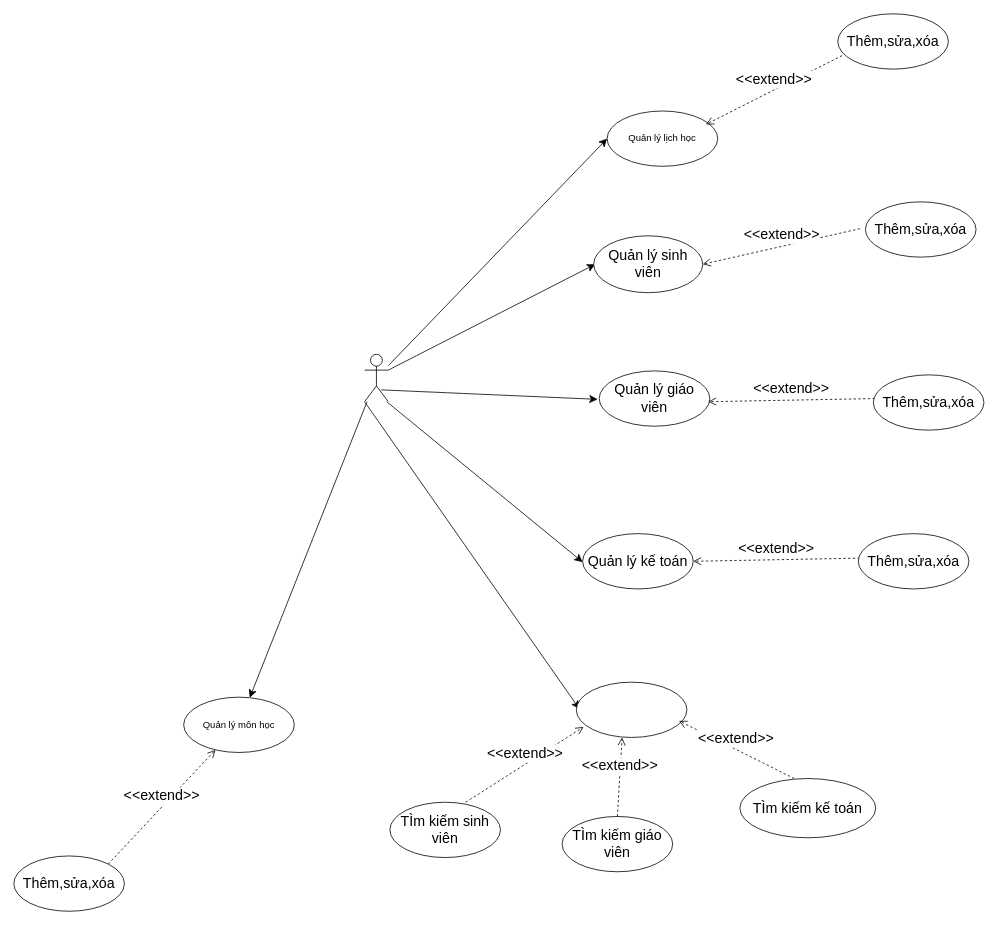
Some shapes in this 998 by 925 pixel diagram are drawn without their labels. Here are the shapes that lost their labels. From the top down, the centre of each, then its label:
(376,378): Hiệu trưởng
(631,709): Tìm kiếm
